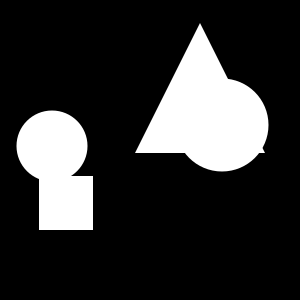circle: (39, 176, 93, 230), (44, 210, 64, 230)
rectangle: (176, 79, 268, 172), (17, 110, 88, 182)
triangle: (135, 23, 265, 153)
